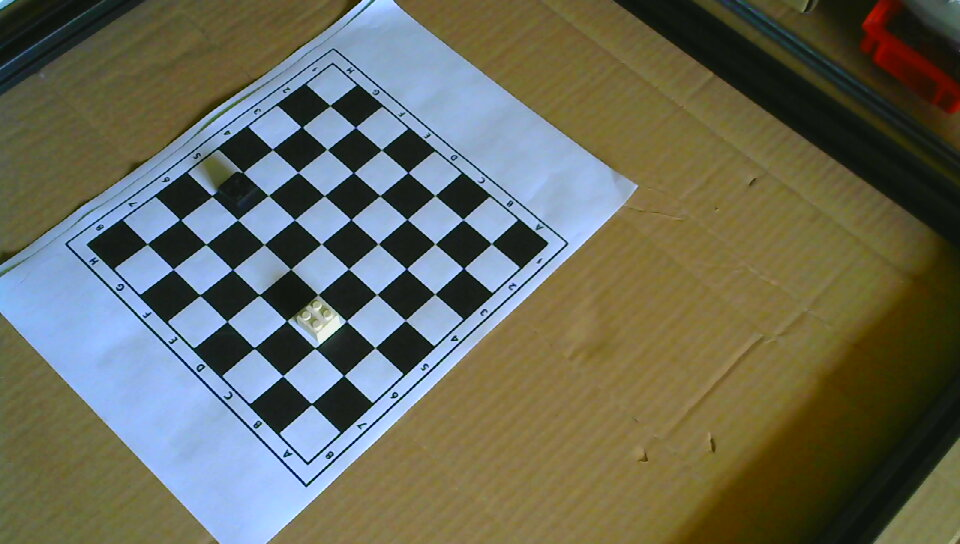bp: (214, 171, 260, 211)
wp: (293, 295, 343, 345)
